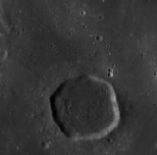crater: (34, 55, 136, 148)
